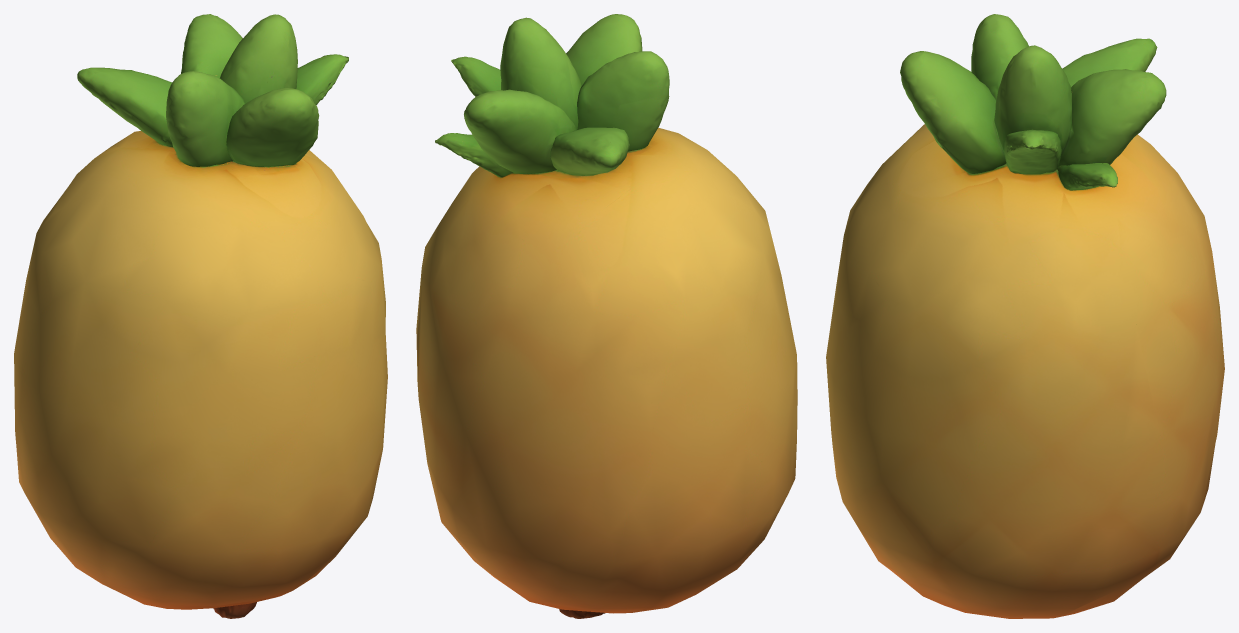
The model's file is pineapple.glb.
3 views of the same model, side by side, from view 1: azimuth 30°, elevation 25°; view 2: azimuth 150°, elevation 25°; view 3: azimuth 270°, elevation 25° (orthographic). The views are drawn at different scales.
Parts seen in each view (by area): view 1: tripo_node_09a4cb37-e191-4e2e-9399-8470ae15ea1f; view 2: tripo_node_09a4cb37-e191-4e2e-9399-8470ae15ea1f; view 3: tripo_node_09a4cb37-e191-4e2e-9399-8470ae15ea1f.
Part boxes in pixels (x1,y1,x2,y2): tripo_node_09a4cb37-e191-4e2e-9399-8470ae15ea1f: (14,14,387,618); tripo_node_09a4cb37-e191-4e2e-9399-8470ae15ea1f: (416,14,797,618); tripo_node_09a4cb37-e191-4e2e-9399-8470ae15ea1f: (826,14,1224,618).
Bounding box in the file's own units: 0.623 × 0.998 × 0.6113.
Materials: 1 (1 with a texture image).
